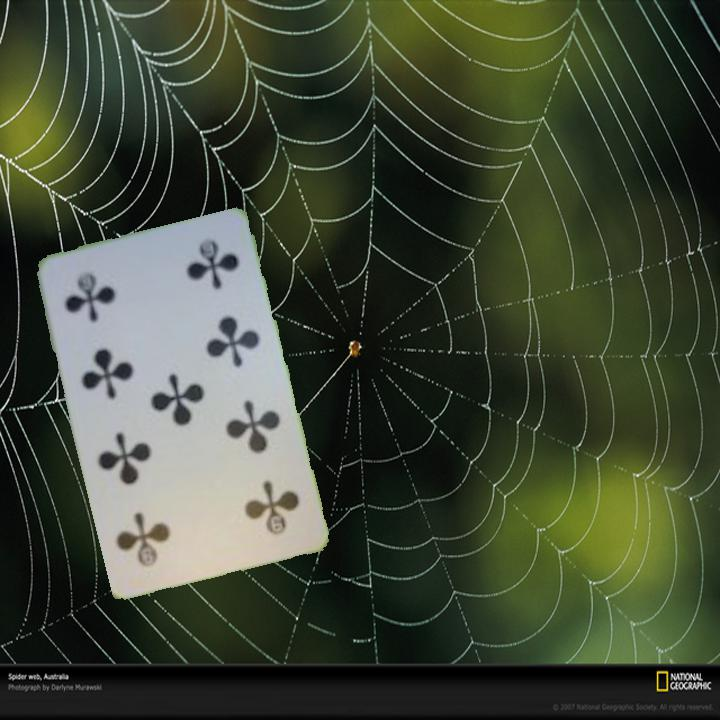c_9.png: (196, 453, 313, 560), (48, 247, 165, 353)
